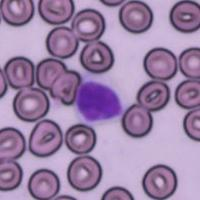L: (72, 71, 128, 128)
